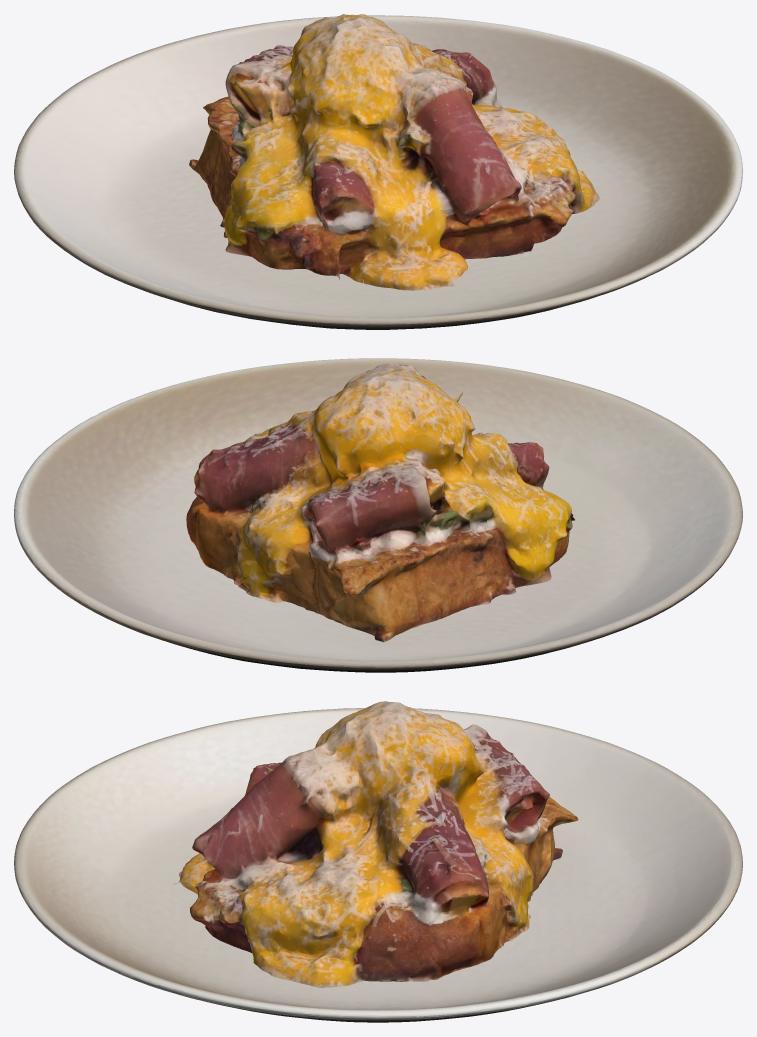
Rendered from bendicate001.glb.
3 views of the same model, one above another, from view 1: azimuth 30°, elevation 25°; view 2: azimuth 150°, elevation 25°; view 3: azimuth 270°, elevation 25° (orthographic).
Visible parts, largest first — view 1: /Root/Scenes/Scene/Object_239/Object_243/Object_244/Submesh_, /Root/Scenes/Scene/Object_239/Object_240/Submesh_0; view 2: /Root/Scenes/Scene/Object_239/Object_243/Object_244/Submesh_, /Root/Scenes/Scene/Object_239/Object_240/Submesh_0; view 3: /Root/Scenes/Scene/Object_239/Object_243/Object_244/Submesh_, /Root/Scenes/Scene/Object_239/Object_240/Submesh_0.
Part boxes in pixels (x1,y1,x2,y2): /Root/Scenes/Scene/Object_239/Object_243/Object_244/Submesh_: (14,15,742,329); /Root/Scenes/Scene/Object_239/Object_240/Submesh_0: (189,14,599,290); /Root/Scenes/Scene/Object_239/Object_243/Object_244/Submesh_: (14,358,742,672); /Root/Scenes/Scene/Object_239/Object_240/Submesh_0: (186,363,574,642); /Root/Scenes/Scene/Object_239/Object_243/Object_244/Submesh_: (14,708,742,1022); /Root/Scenes/Scene/Object_239/Object_240/Submesh_0: (174,701,578,987).
Size of the model in its own units: 0.2679 by 0.078 by 0.2679.
2 materials, 2 textured.
